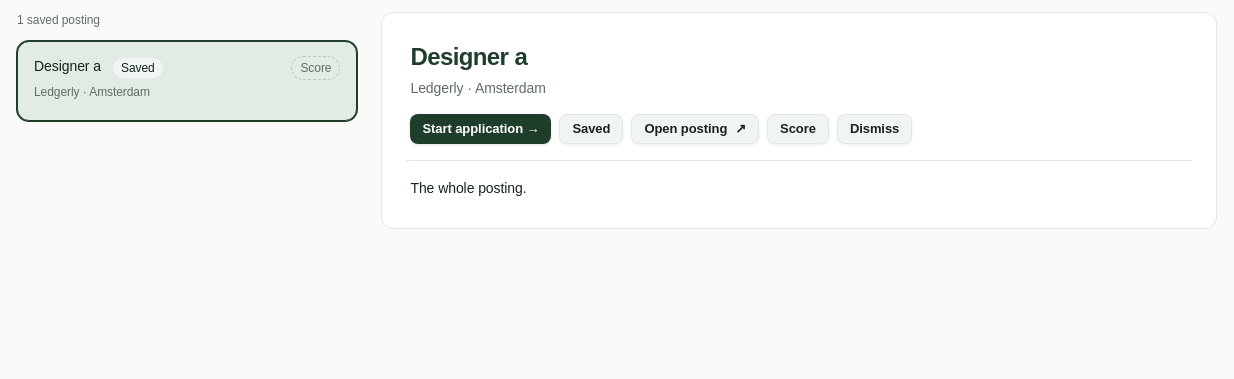
Test case: Score in Find jobs (#208) › scores the open posting in the background and shows how it fits
Later steps or results of the test are not shown.
Click the button "Score" next to "Open posting". click: (798, 129)
box: top-left (767, 114), bottom-right (829, 144)
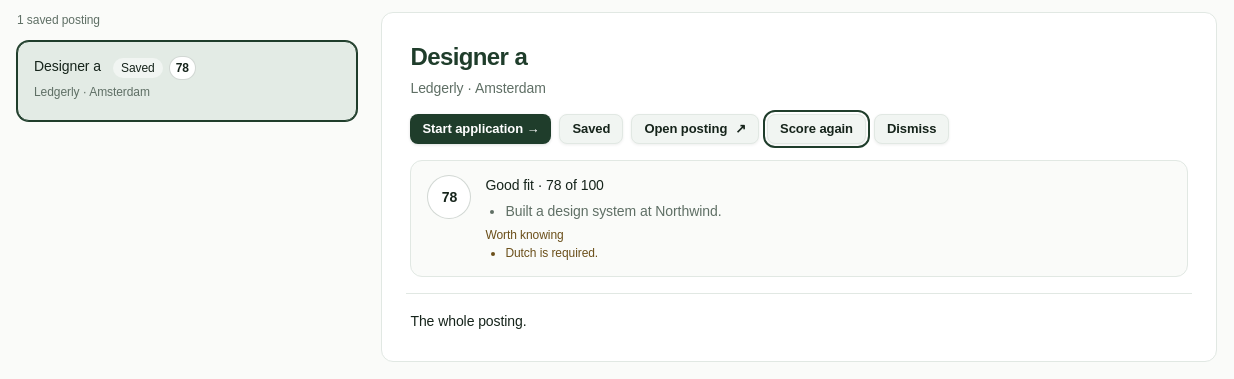
expect the text "Good fit · 78 of 100" is shown: met, box top-left (485, 177), bottom-right (604, 193)
expect the list named "Why it fits" reads "Built a design system at Northwind.": met, box top-left (505, 203), bottom-right (721, 219)
expect the list item "Dutch is required." is shown: met, box top-left (505, 246), bottom-right (598, 260)
